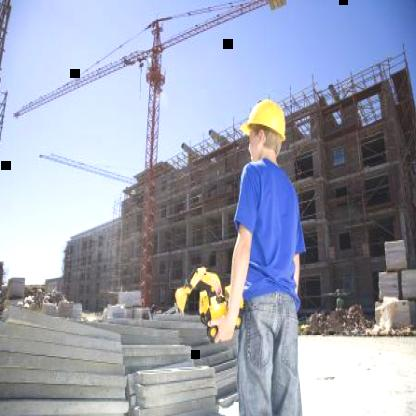helmet: (234, 98, 293, 148)
